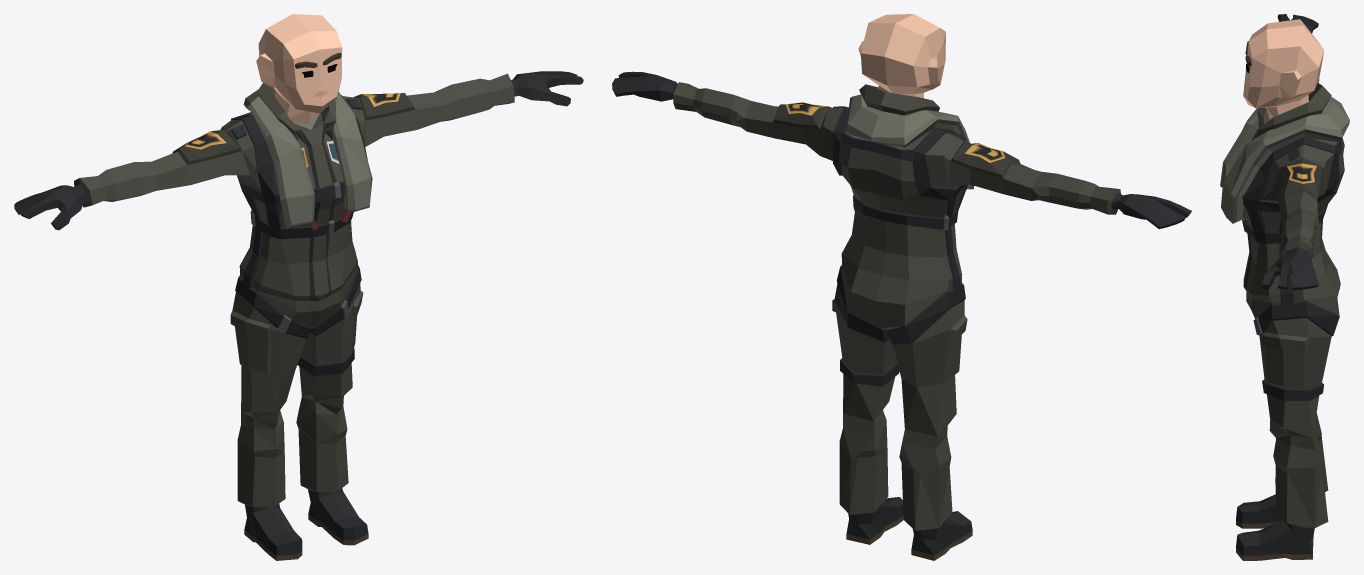
The model's file is SM_Chr_Pilot_Female_01.fbx.
The picture shows the model from 3 angles, left to right: view 1: azimuth 30°, elevation 25°; view 2: azimuth 150°, elevation 25°; view 3: azimuth 270°, elevation 25°; orthographic projection.
Visible parts, largest first — view 1: SM_Chr_Pilot_Female_01; view 2: SM_Chr_Pilot_Female_01; view 3: SM_Chr_Pilot_Female_01.
Part boxes in pixels (<box>): SM_Chr_Pilot_Female_01: <box>14,14,583,560</box>; SM_Chr_Pilot_Female_01: <box>612,14,1191,560</box>; SM_Chr_Pilot_Female_01: <box>1220,14,1349,560</box>.
Size of the model in its own units: 204 by 179 by 41.03.
